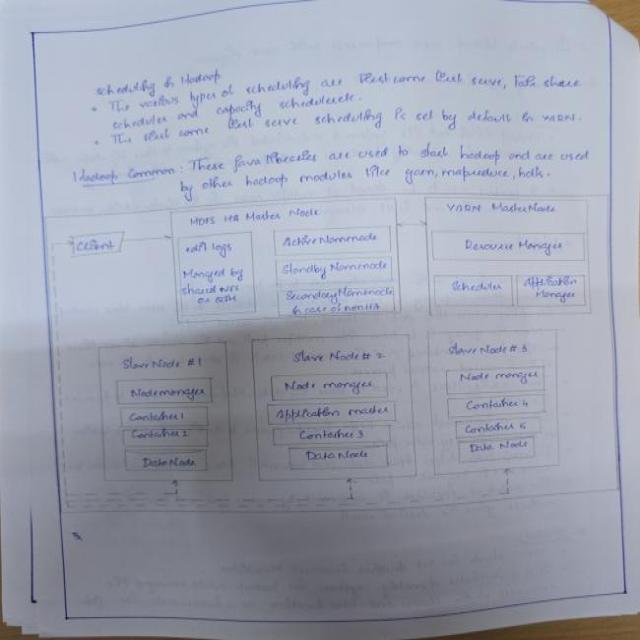Figure Detection - v3 Dataset Version2: (48, 184, 631, 522)
